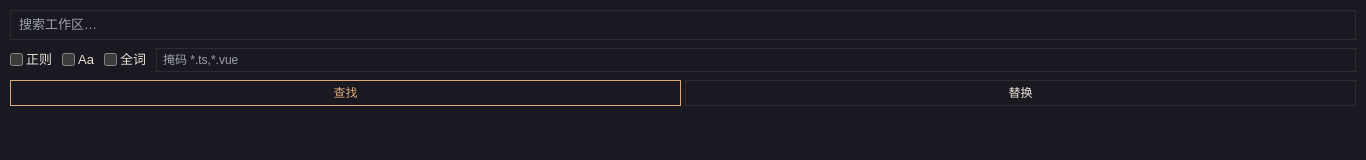
Test: SearchPanel 搜索模式 › api 报错（非法正则）显示错误行
This screenshot has width=1366, height=160.
In the field with class "search-input": (683, 25) [10, 10, 1356, 40], type "("
Wait 300 ms
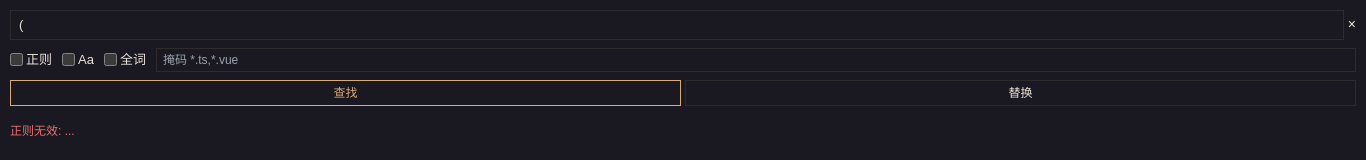
Expected: the text "正则无效: ..." is shown, [10, 124, 75, 138]
